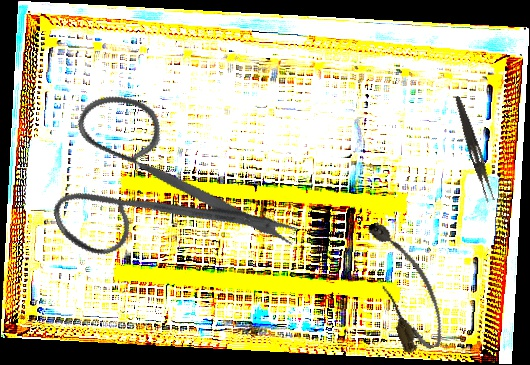Cannula: (359, 212, 452, 358)
Dressing Forceps: (449, 95, 499, 203)
Iris Scissors: (21, 47, 307, 321)
